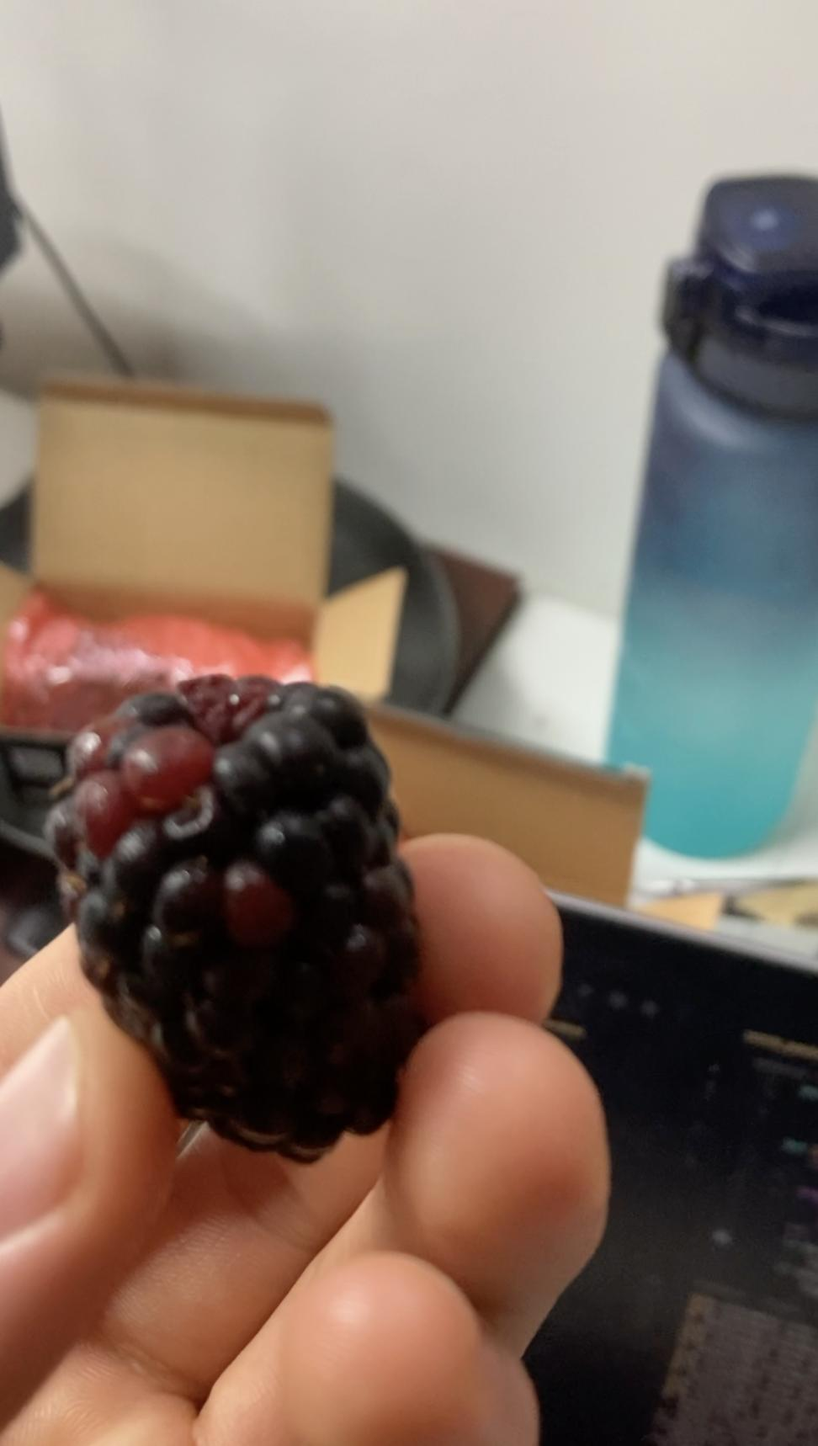berry: (47, 677, 425, 1162)
red drouplet: (120, 726, 212, 814), (74, 768, 143, 857), (225, 863, 290, 946)
